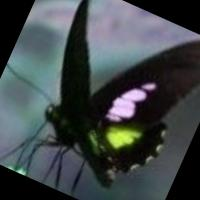butterfly: (47, 0, 200, 187)
